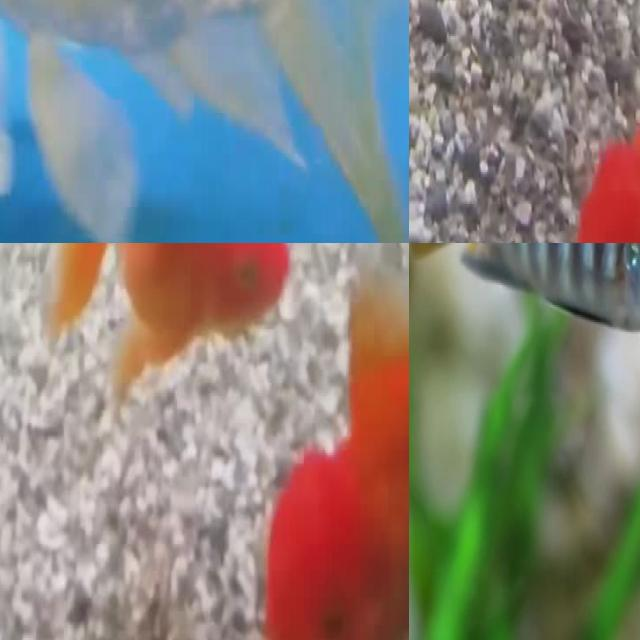fish: (0, 0, 409, 243), (0, 243, 298, 384)
